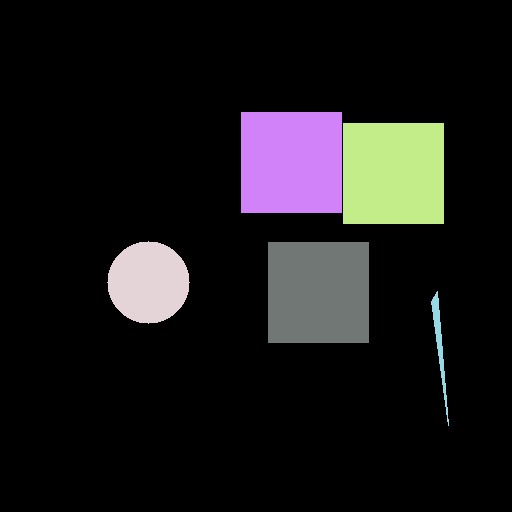circle: (107, 241, 189, 323)
square: (268, 242, 368, 342), (343, 123, 443, 223), (241, 112, 341, 212)
triangle: (431, 291, 448, 425)
